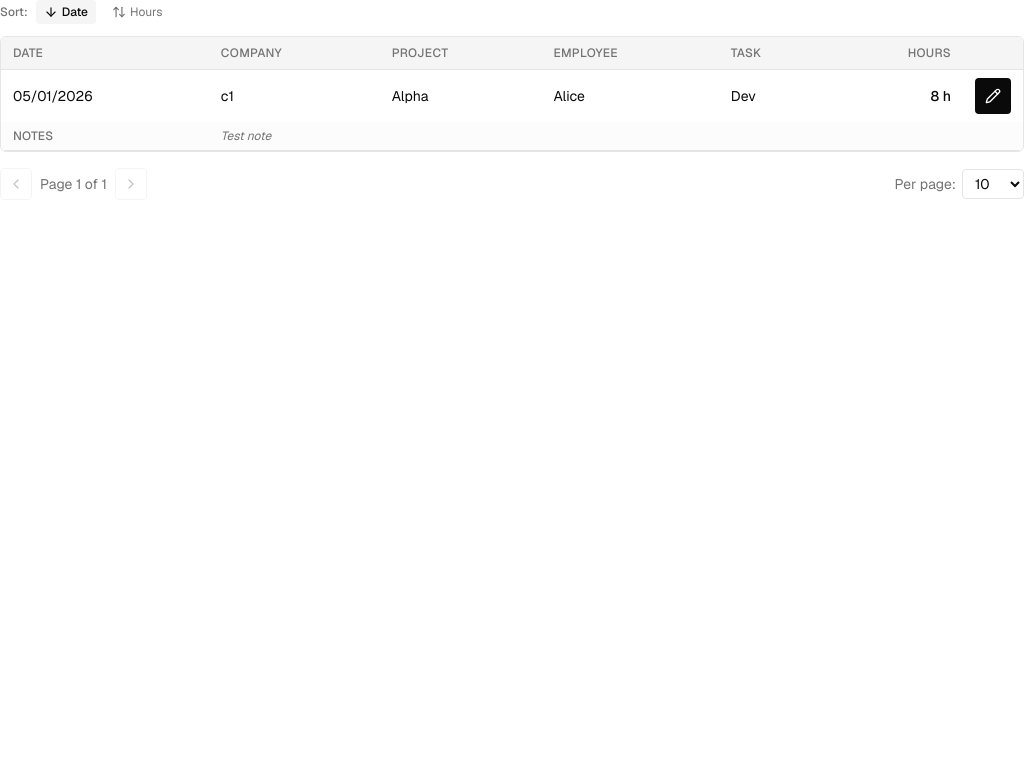
Test case: HistoryTable › blocks save and shows "Hours cannot exceed 24" when editing > 24
Click the button with test id "edit-btn" at [993, 96], box 975,78 -> 1011,114
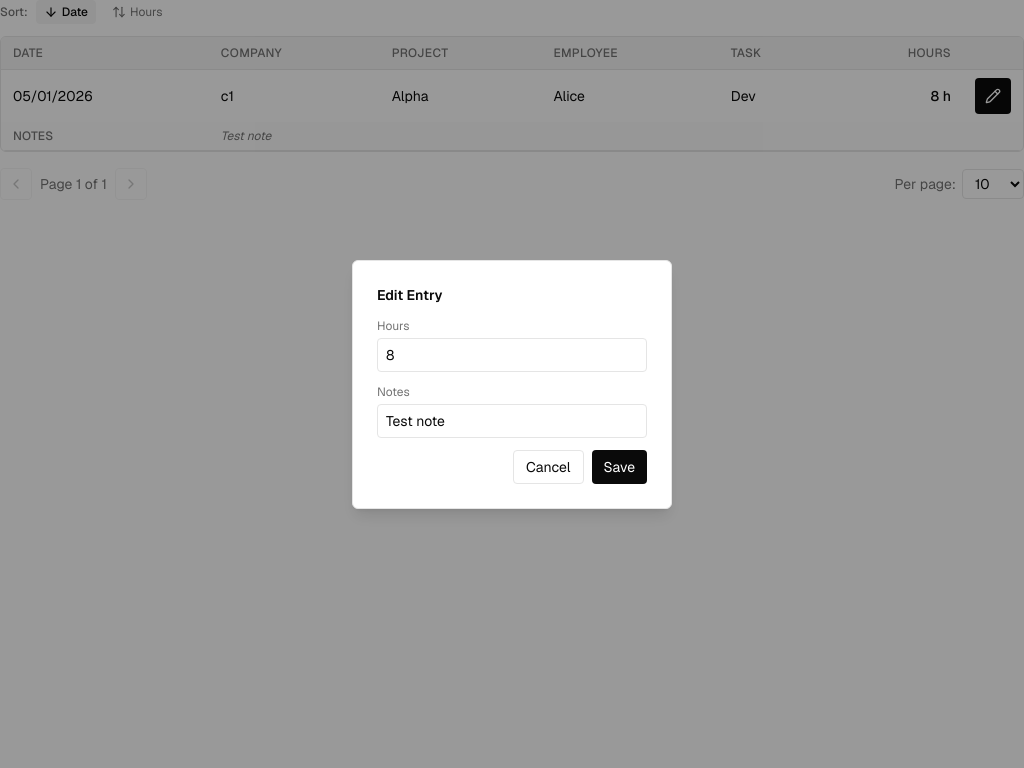
Replace the text in the number field with test id "edit-hours" with "25" at [512, 354], box 377,338 -> 647,372
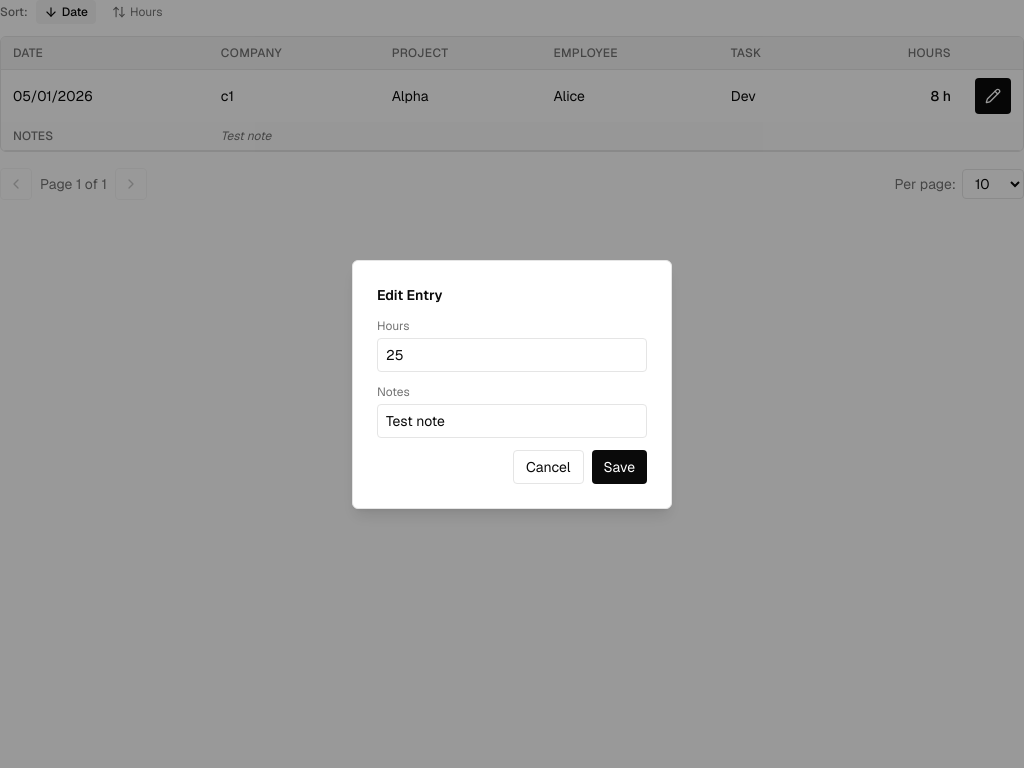
Click the button with test id "edit-save" at [619, 466], box 592,450 -> 647,484
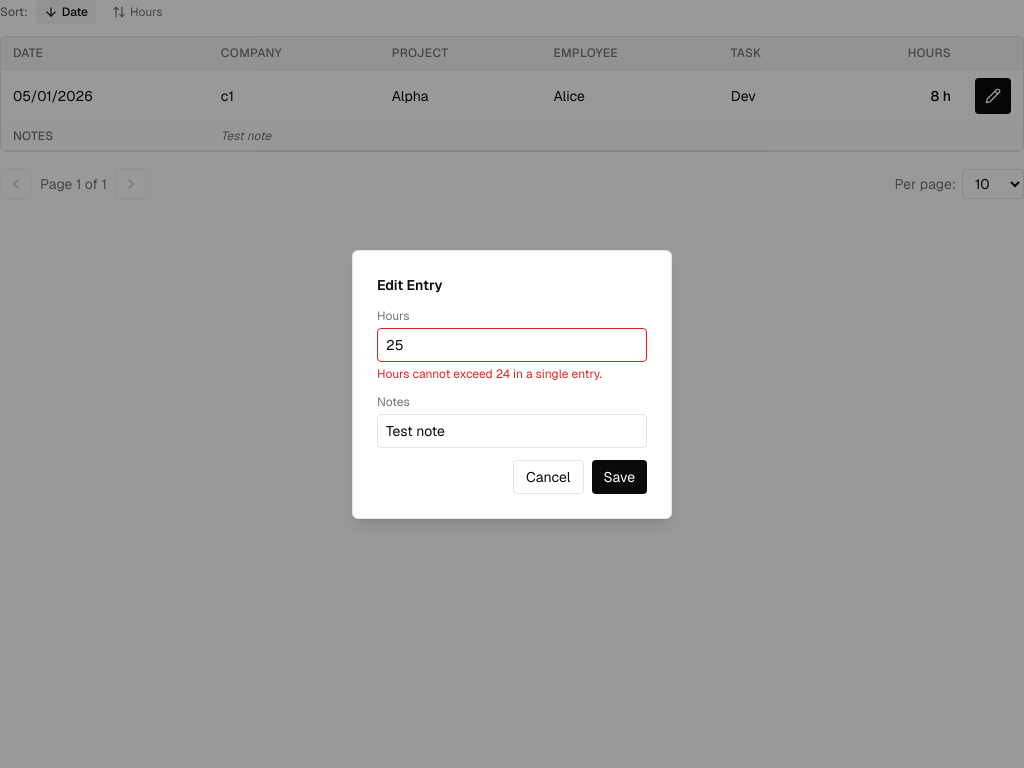
Check: the element with test id "edit-dialog" is shown
Check: the text with test id "edit-error" reads "Hours cannot exceed 24 in a single entry.", box 377,366 -> 602,382
